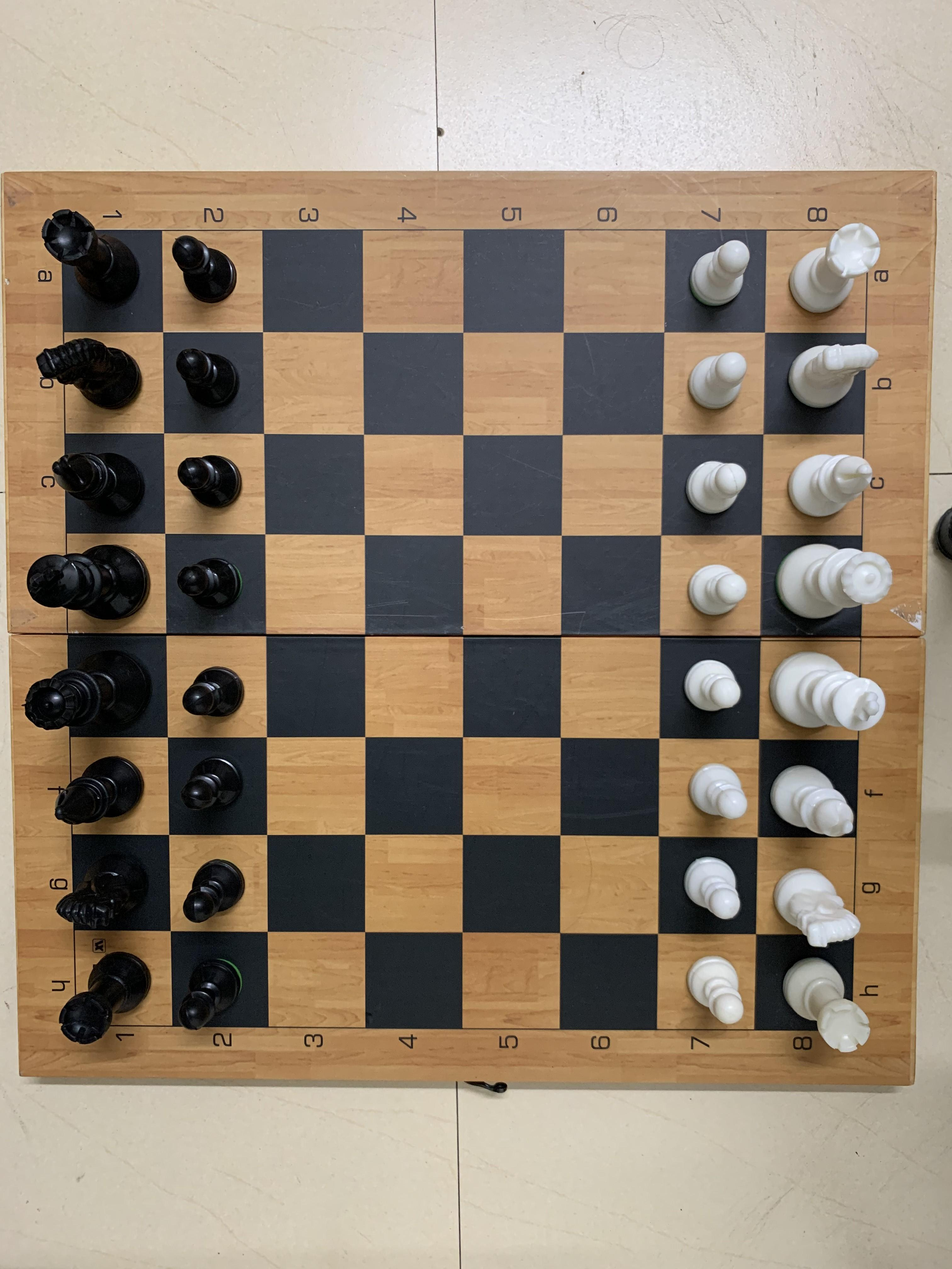black_bishop: (35, 414, 156, 524), (40, 749, 161, 823)
black_king: (22, 535, 153, 633)
black_knight: (50, 831, 166, 941), (31, 324, 150, 431)
black_pawn: (167, 439, 273, 528), (165, 543, 259, 634), (164, 224, 249, 315), (165, 748, 254, 832), (173, 650, 263, 732), (165, 337, 247, 426), (176, 956, 260, 1032), (173, 852, 252, 931)
black_queen: (22, 644, 147, 751)
black_rook: (41, 938, 166, 1057), (36, 197, 144, 319)
white_bishop: (768, 743, 875, 843), (776, 443, 886, 523)
white_king: (771, 641, 896, 747)
white_knight: (765, 323, 886, 425), (765, 841, 868, 949)
white_pawn: (675, 332, 764, 435), (671, 937, 752, 1027), (666, 449, 760, 526), (671, 235, 759, 317), (671, 845, 754, 930), (674, 551, 755, 638), (671, 647, 751, 731), (671, 757, 757, 834)
white_queen: (763, 524, 909, 632)
white_rook: (782, 216, 896, 324), (773, 946, 875, 1056)
